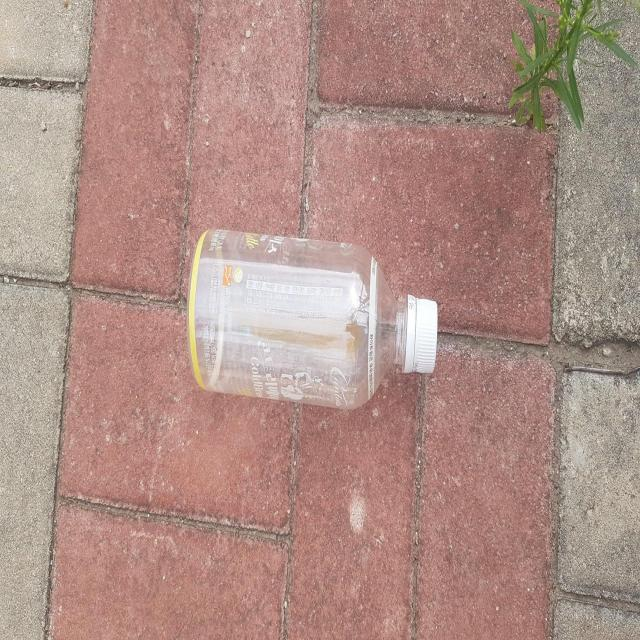plastic: (187, 228, 438, 408)
